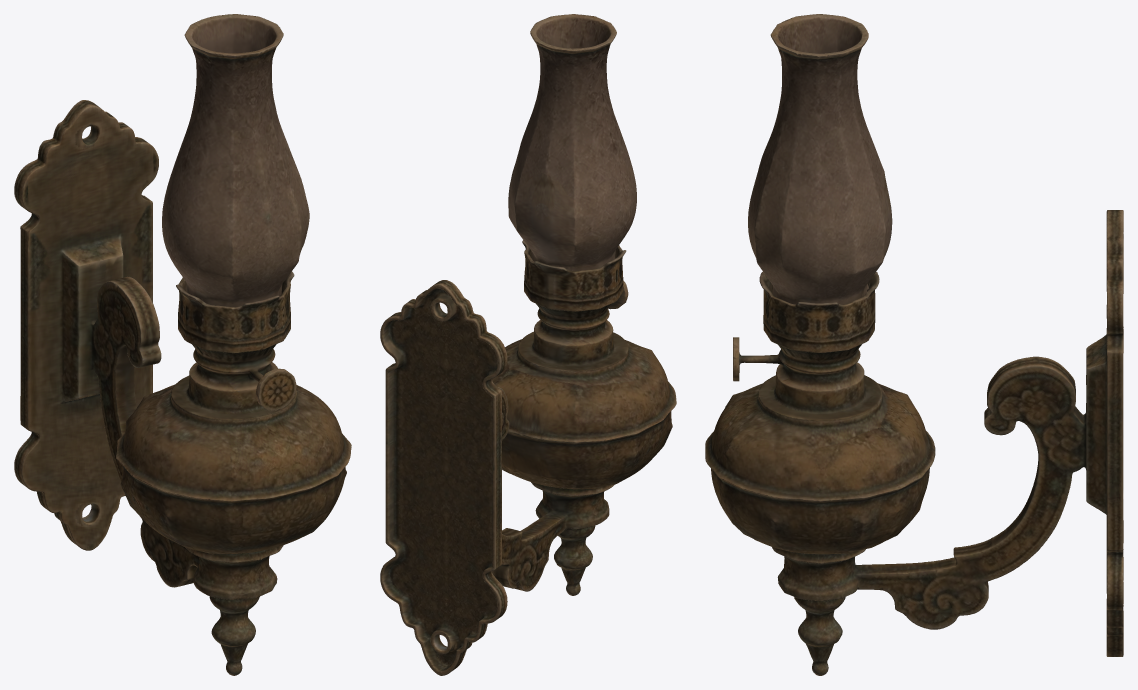
The model's file is Meshy_AI_Antique_Wall_Oil_Lamp_1019103403_texture.fbx.
3 views of the same model, side by side, from view 1: azimuth 30°, elevation 25°; view 2: azimuth 150°, elevation 25°; view 3: azimuth 270°, elevation 25° (orthographic). The views are drawn at different scales.
Parts seen in each view (by area): view 1: Mesh_0; view 2: Mesh_0; view 3: Mesh_0.
Part boxes in pixels (box(x1,y1,x2,y2)): Mesh_0: box(14, 14, 351, 675); Mesh_0: box(380, 14, 676, 675); Mesh_0: box(705, 14, 1123, 675).
Bounding box in the file's own units: 63.26 × 190 × 112.
1 material, 1 textured.
